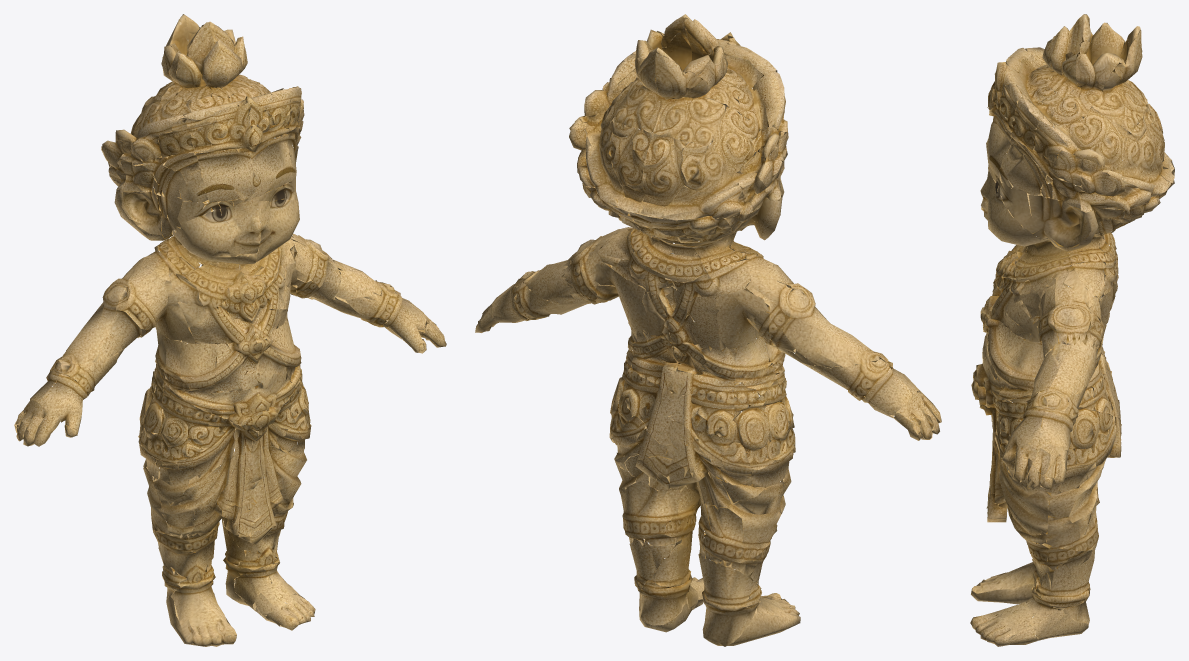
File: mascot_for_mixamo.fbx
3 renders of one model, left to right at view 1: azimuth 30°, elevation 25°; view 2: azimuth 150°, elevation 25°; view 3: azimuth 270°, elevation 25°, orthographic. The views are drawn at different scales.
Visible parts, largest first — view 1: Mesh_0; view 2: Mesh_0; view 3: Mesh_0.
Boxes of the visible parts, x1,y1,x2,y2 form: Mesh_0: (14,14,446,646); Mesh_0: (475,14,941,646); Mesh_0: (970,14,1174,646).
Bounding box in the file's own units: 12.1 × 16.01 × 4.93.
Materials: 1 (1 with a texture image).
